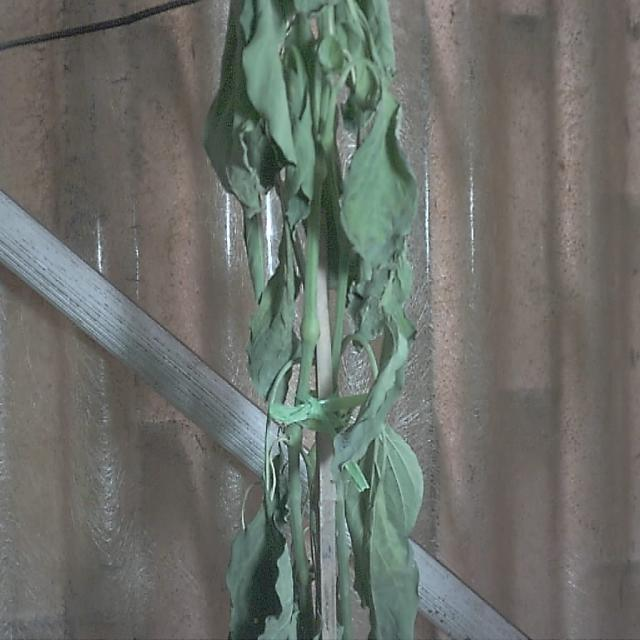Leaf: (346, 413, 423, 640), (338, 88, 419, 267), (235, 4, 298, 169), (225, 508, 295, 638), (246, 249, 294, 405)
